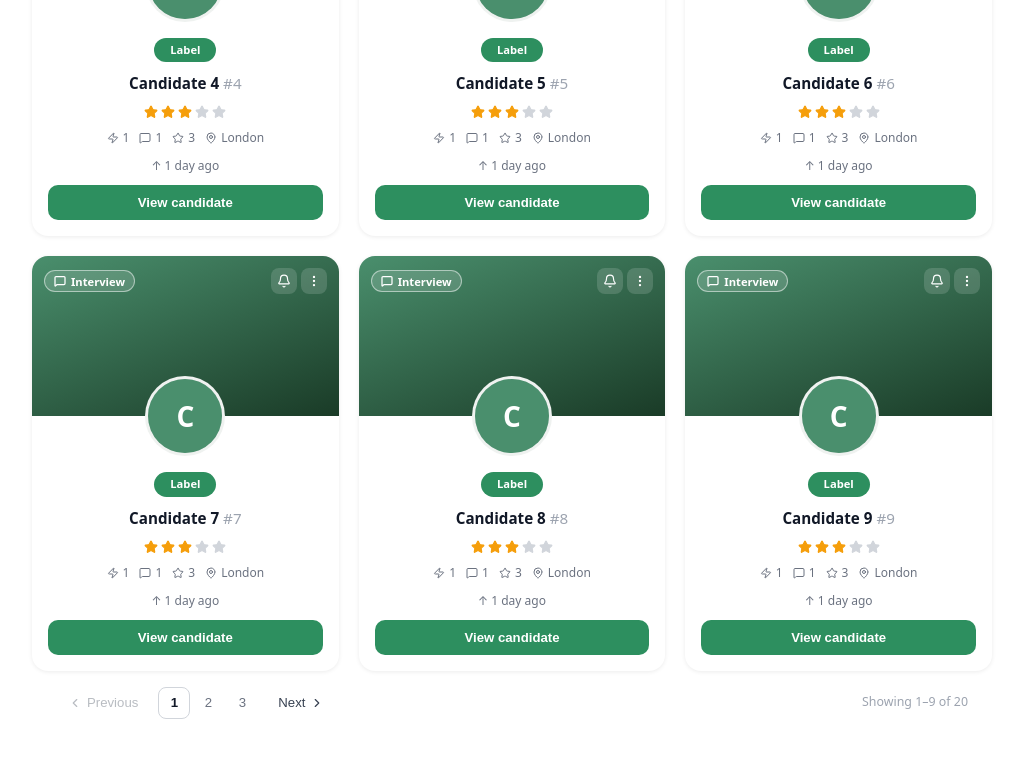
CandidatesPage › shows next page candidates on pagination click
(page scrolled)
Click the button "2": click(208, 703) left=192, top=687, right=224, bottom=719
(page scrolled)
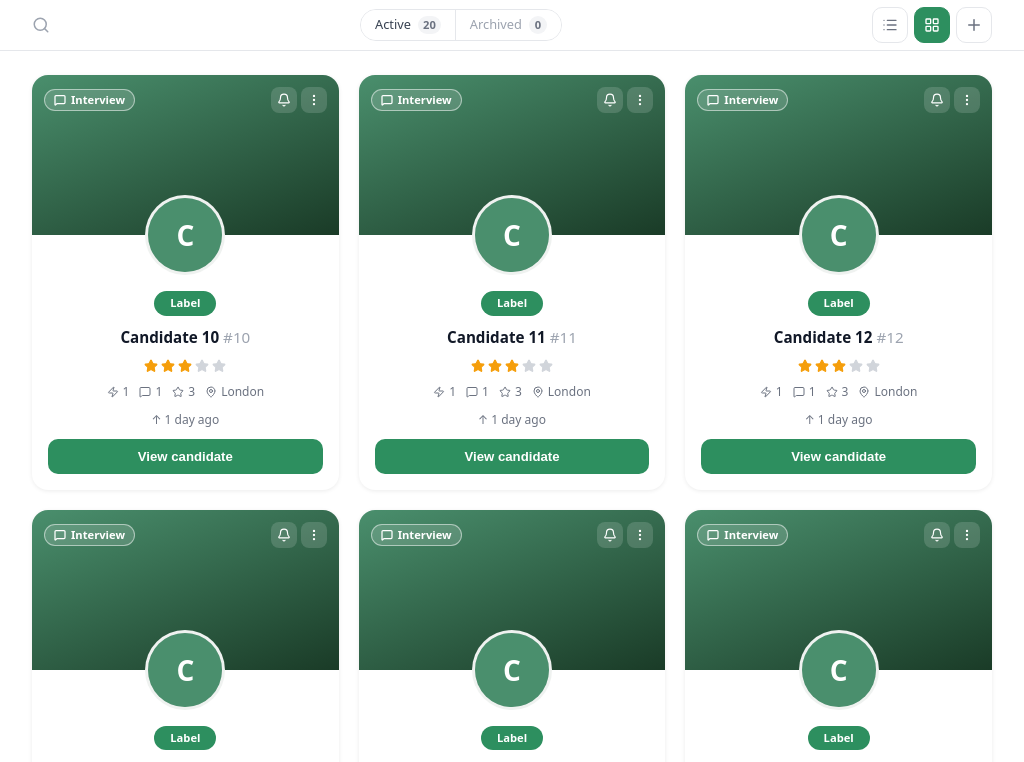
Expected: the text "Candidate 10" is shown, left=120, top=327, right=219, bottom=347
